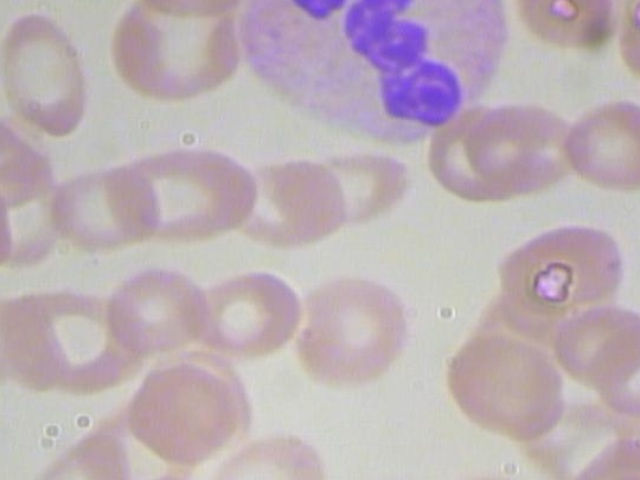RBC: (483, 212, 625, 334), (437, 316, 579, 438), (131, 131, 262, 247), (281, 274, 409, 388), (0, 5, 98, 144), (458, 82, 572, 199), (232, 139, 349, 248), (99, 258, 219, 362), (302, 147, 421, 250), (128, 359, 247, 462), (194, 261, 300, 355), (559, 85, 640, 200), (0, 166, 25, 279)
WBC: (230, 0, 515, 149)
